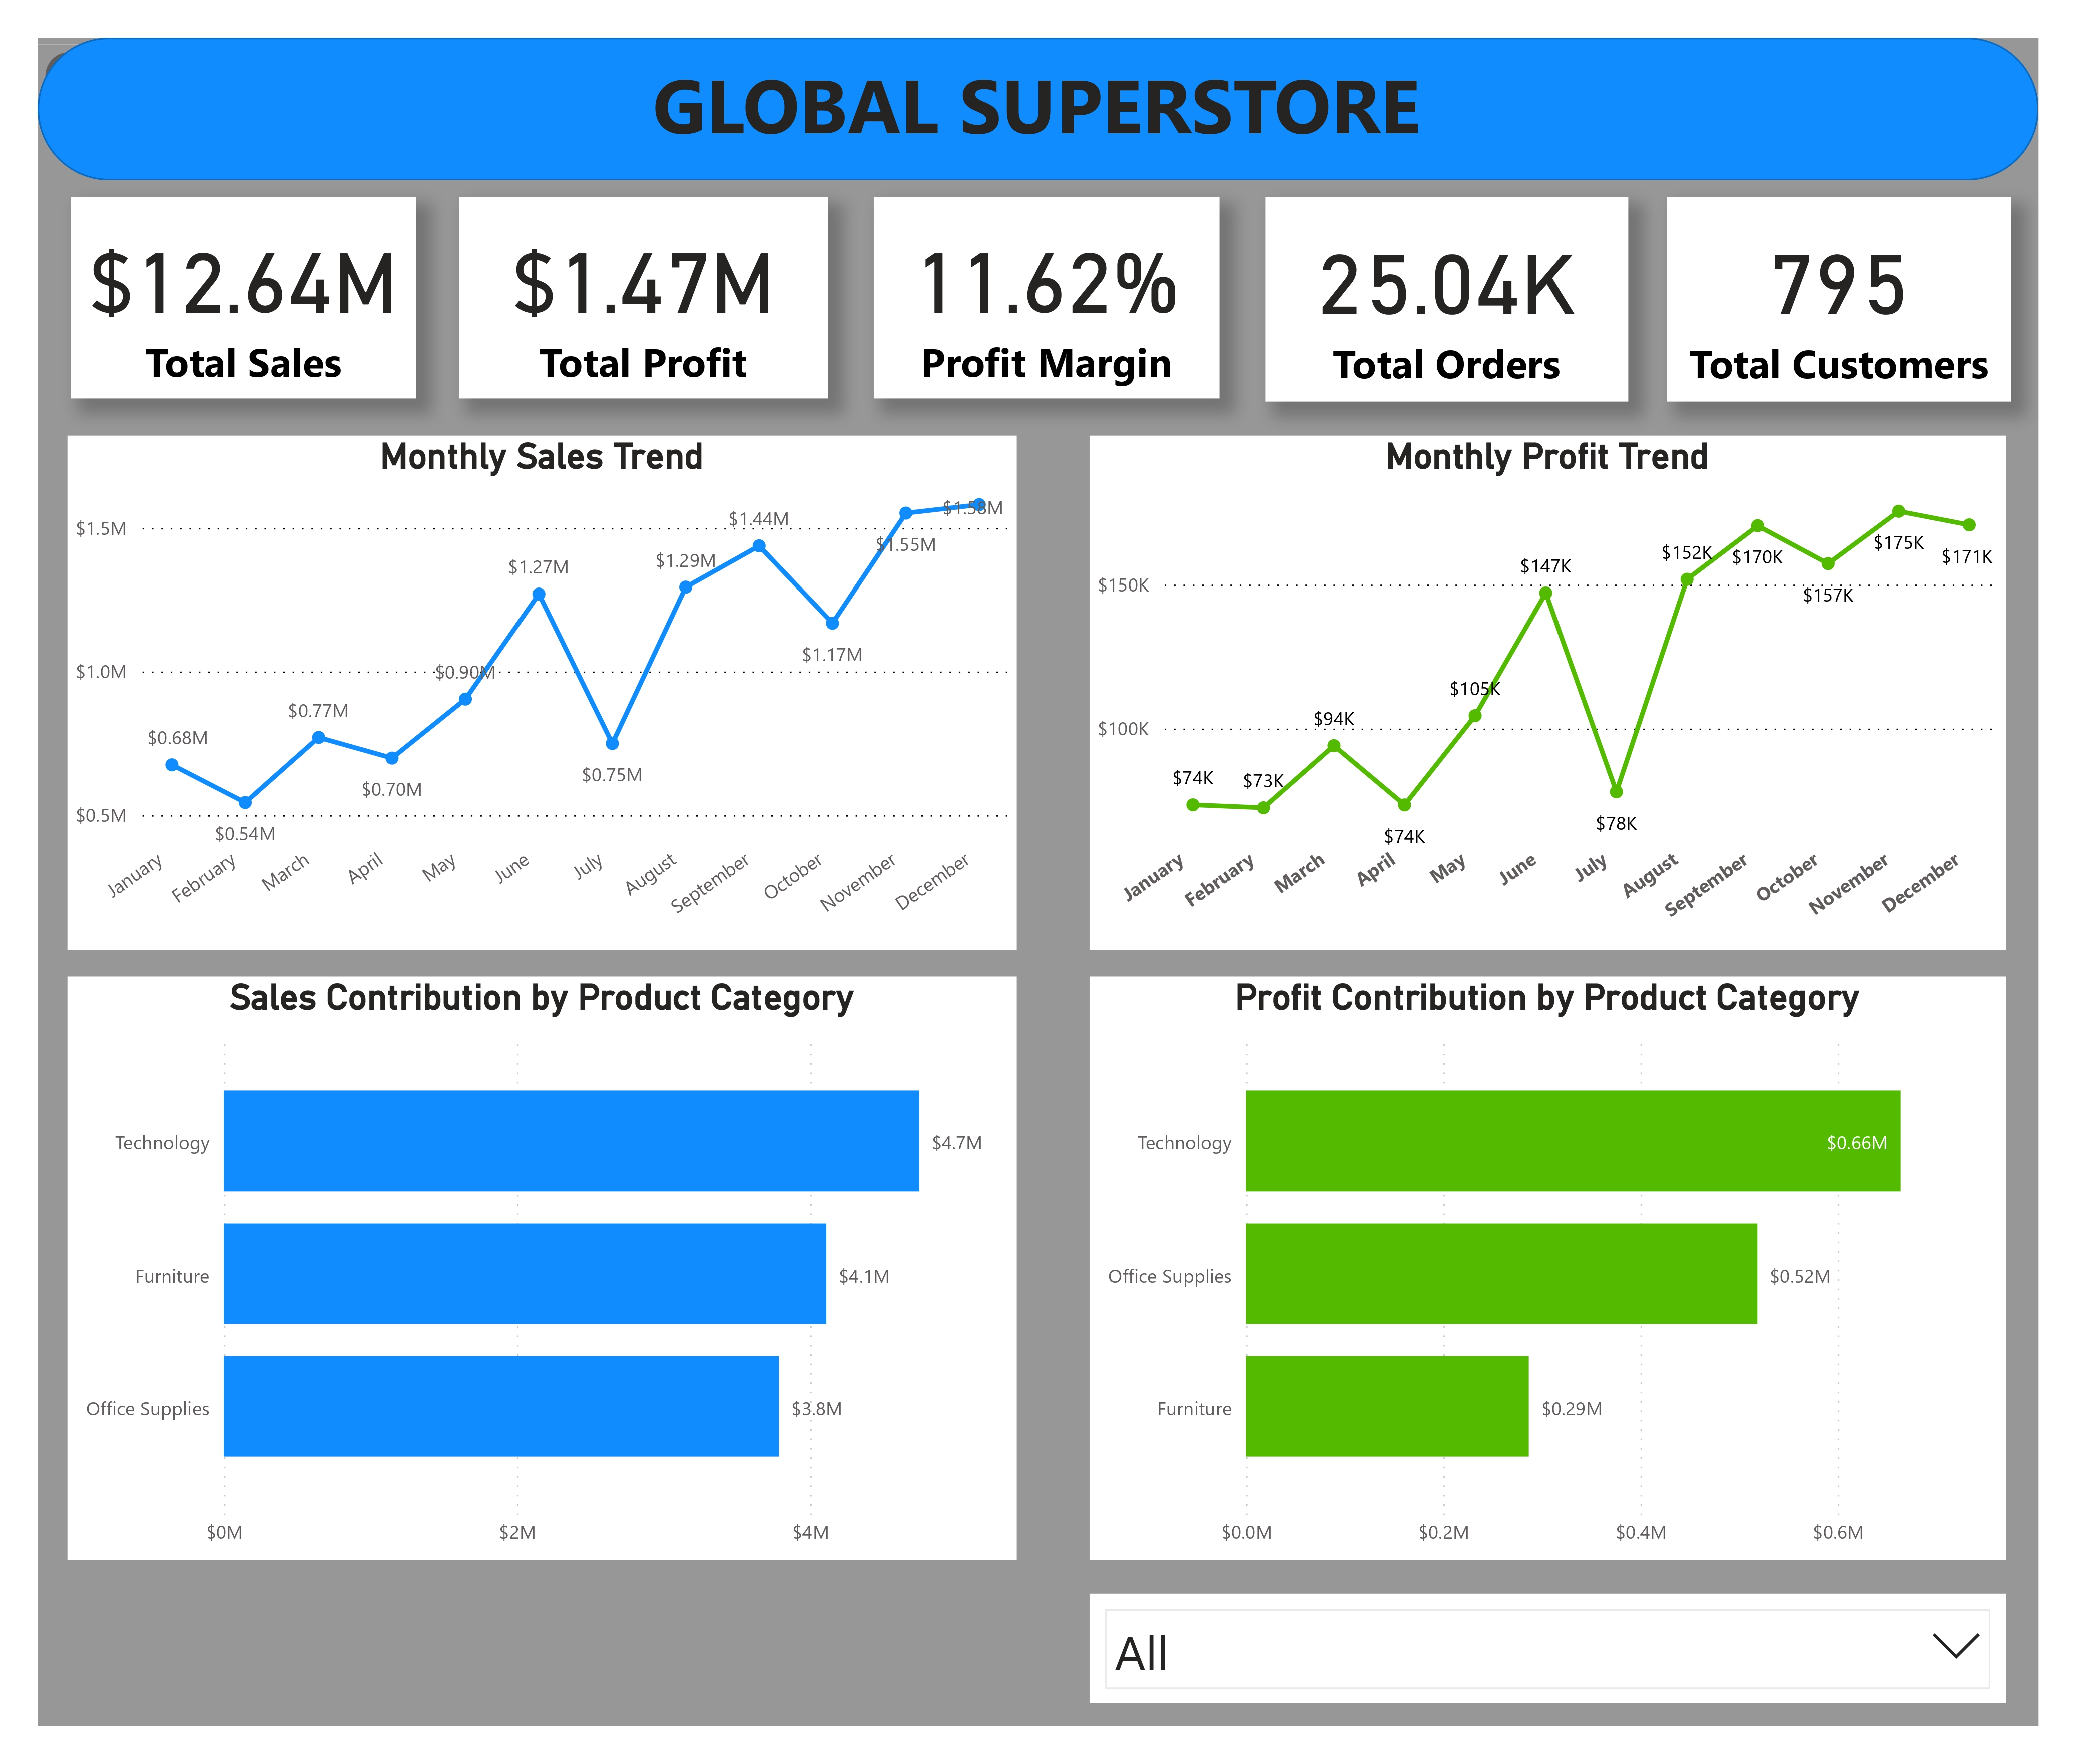

The page's visual inventory and layout, read from the dashboard file:
{"tool":"powerbi","page":{"name":"Overview","canvas":[1280,1080],"ordinal":0},"visuals":[{"type":"card","title":"Sales","fields":{"Values":["Sum(global-superstore-clean.sales)"]},"box":[21.8,101.5,220.7,129.4],"z":0},{"type":"card","fields":{"Values":["Sum(global-superstore-clean.profit)"]},"box":[270.1,101.5,235.5,129.4],"z":1000},{"type":"card","fields":{"Values":["global-superstore-clean.Profit Margin (%)"]},"box":[535.3,101.5,220.7,129.4],"z":2000},{"type":"card","fields":{"Values":["Count(global-superstore-clean.order_id)"]},"box":[785.5,101,231.8,131],"z":3000},{"type":"card","fields":{"Values":["Count(global-superstore-clean.customer_name)"]},"box":[1040.8,101,220.1,131],"z":4000},{"type":"lineChart","title":"Monthly Sales Trend","fields":{"Category":["global-superstore-clean.month_name"],"Y":["Sum(global-superstore-clean.sales)"]},"box":[19.1,254.6,606.8,328.9],"z":5000},{"type":"lineChart","title":"Monthly Profit Trend","fields":{"Category":["global-superstore-clean.month_name"],"Y":["Sum(global-superstore-clean.profit)"]},"box":[672.6,254.6,585.6,328.9],"z":6000},{"type":"clusteredBarChart","title":"Sales Contribution by Product Category","fields":{"Category":["global-superstore-clean.category"],"Y":["Sum(global-superstore-clean.sales)"]},"box":[19.1,600.5,606.8,373.4],"z":7000},{"type":"clusteredBarChart","title":"Profit Contribution by Product Category","fields":{"Category":["global-superstore-clean.category"],"Y":["Sum(global-superstore-clean.Total Profit)"]},"box":[672.6,600.5,585.6,373.4],"z":8000},{"type":"actionButton","box":[0,4.2,99.7,40.3],"z":9000},{"type":"slicer","fields":{"Values":["global-superstore-clean.year Hierarchy.year","global-superstore-clean.year Hierarchy.market","global-superstore-clean.year Hierarchy.region","global-superstore-clean.year Hierarchy.country","global-superstore-clean.year Hierarchy.state"]},"box":[672.6,995.1,585.6,70],"z":10000},{"type":"shape","box":[0,0,1279.4,91.2],"z":11000},{"type":"textbox","box":[19.1,4.2,1239.1,89.1],"z":12000}]}

Visuals, with their boxes on the page's 1280x1080 design canvas (x1, y1, x2, y2). These are canvas units, not pixel positions in the 2077x1764 screenshot, which may show the page scaled, cropped or inside an application window:
"Sales" card: region(22, 102, 242, 231)
card - Sum(global-superstore-clean.profit): region(270, 102, 506, 231)
card - global-superstore-clean.Profit Margin (%): region(535, 102, 756, 231)
card - Count(global-superstore-clean.order_id): region(786, 101, 1017, 232)
card - Count(global-superstore-clean.customer_name): region(1041, 101, 1261, 232)
"Monthly Sales Trend" lineChart: region(19, 255, 626, 584)
"Monthly Profit Trend" lineChart: region(673, 255, 1258, 584)
"Sales Contribution by Product Category" clusteredBarChart: region(19, 600, 626, 974)
"Profit Contribution by Product Category" clusteredBarChart: region(673, 600, 1258, 974)
actionButton: region(0, 4, 100, 44)
slicer - global-superstore-clean.year Hierarchy.year x global-superstore-clean.year Hierarchy.market: region(673, 995, 1258, 1065)
shape: region(0, 0, 1279, 91)
textbox: region(19, 4, 1258, 93)
